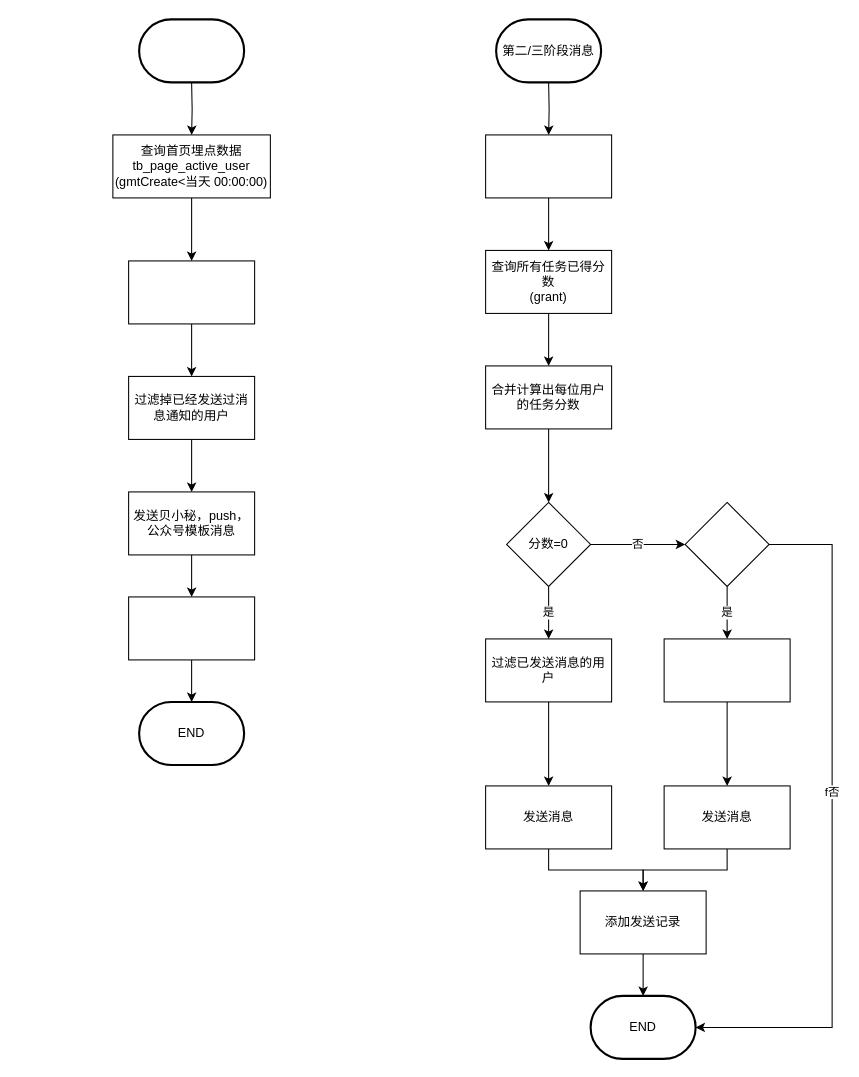
The diagram is 859 pixels wide and 1077 high, and some of its shapes have lost their labels. The shapes that lost their labels are listed below. From the top down, each one's box as (x1, y1, x2, y2) in pixels, then its label:
(138, 18, 245, 83): 第一阶段消息
(485, 134, 612, 198): 查询所有产生任务的用户数据 (task_detail)
(128, 260, 255, 324): 过滤掉已产生任务的用户(task_detail )
(684, 501, 769, 586): 分数<9
(128, 596, 255, 660): 添加已发消息记录 cache(event:time:book:send:message:actCode:tb2022:type:1 )
(663, 638, 790, 702): 过滤已经发送消息的用户
